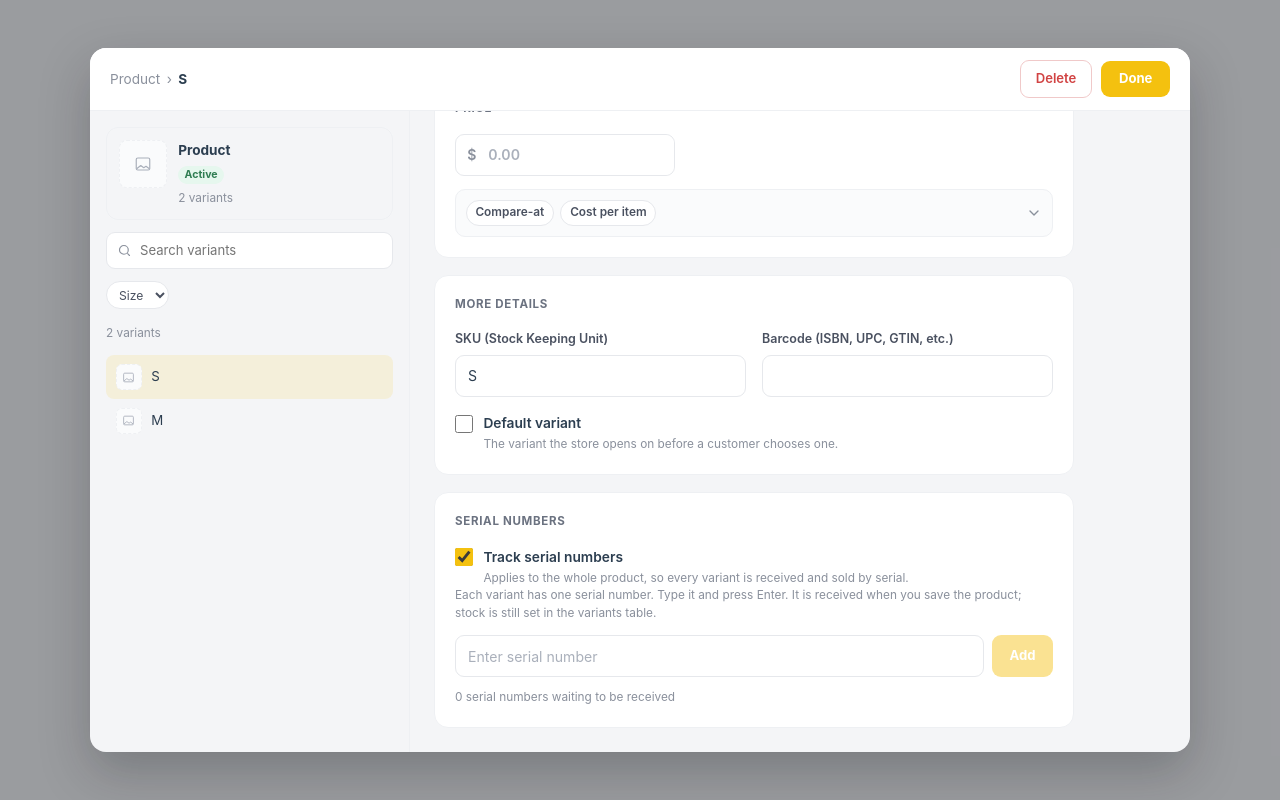
Test case: VariantDetailPanel serial numbers › refuses a serial already on another variant and says so
(page scrolled)
Type "sn1" into the field named "Serial number". click: (719, 656)
box: x1=455 y1=635 x2=984 y2=677
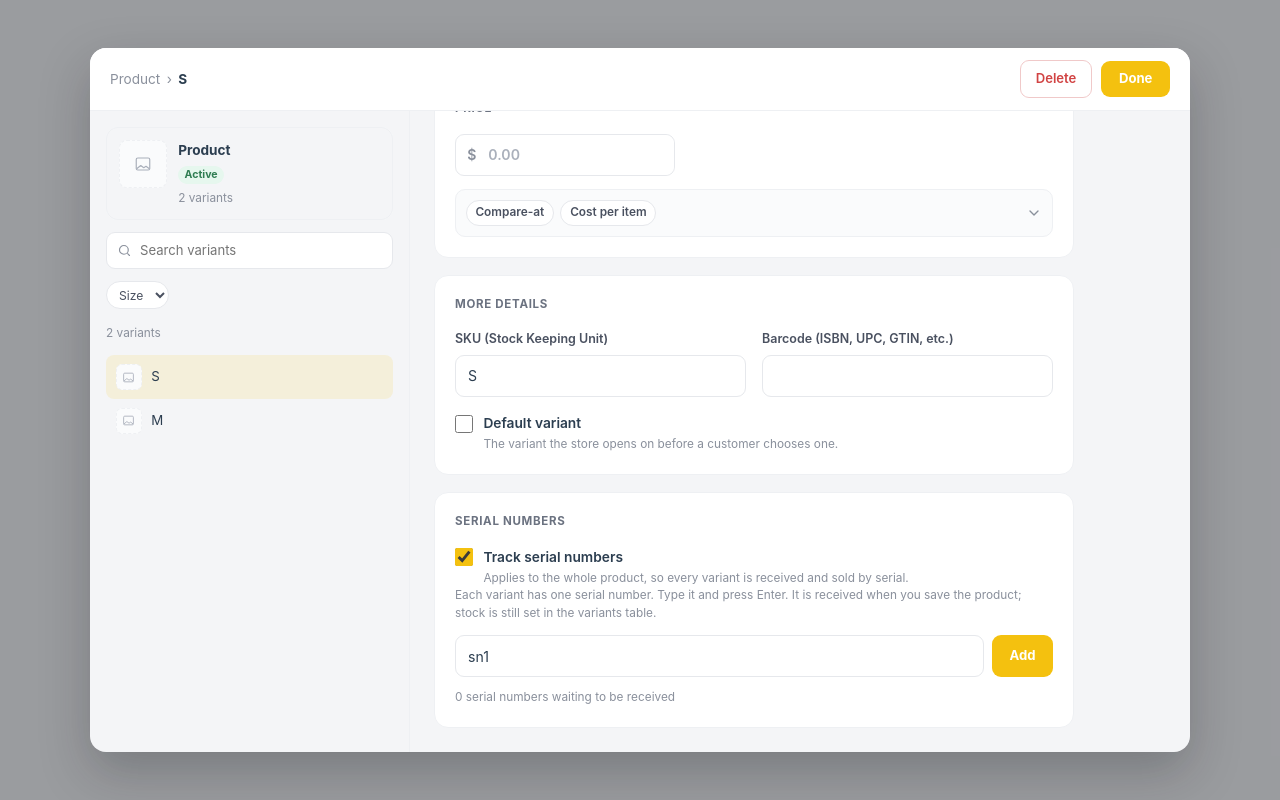
Press Enter in the field named "Serial number", box x1=455 y1=635 x2=984 y2=677
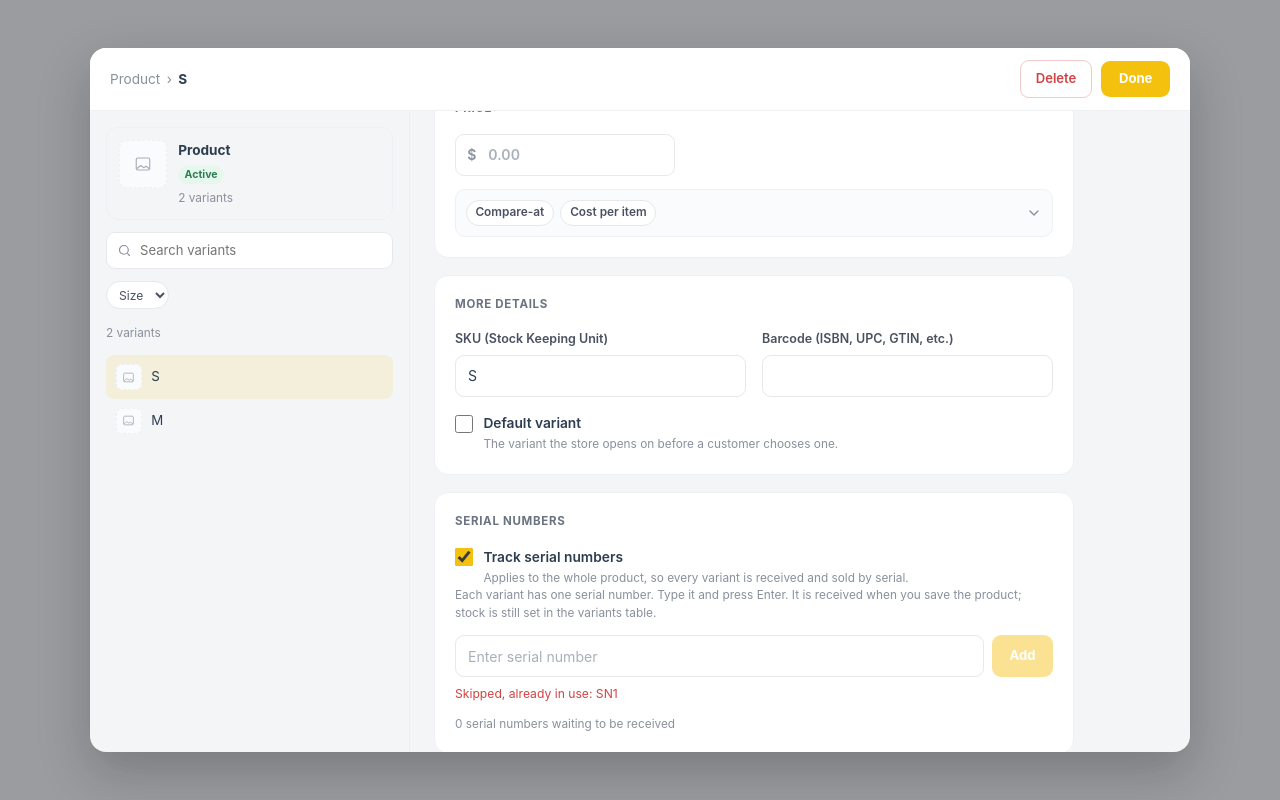
expect the text "Skipped, already in use: SN1" is shown: met, box x1=455 y1=686 x2=618 y2=701
